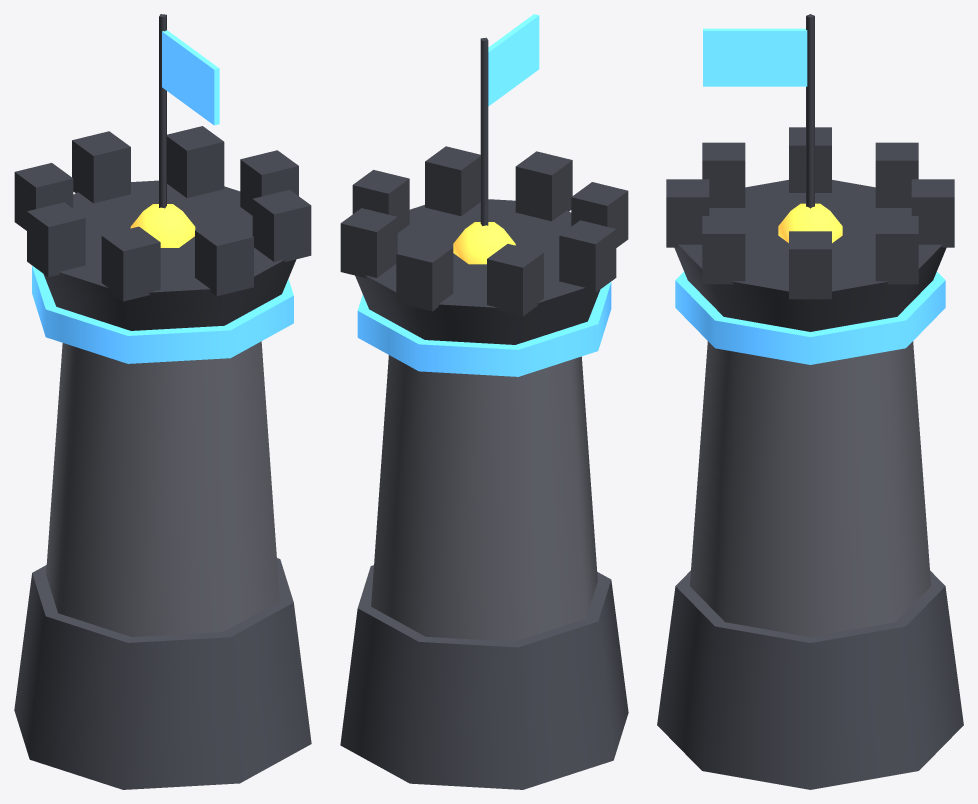
File: tower.glb
3 views of the same model, side by side, from view 1: azimuth 30°, elevation 25°; view 2: azimuth 150°, elevation 25°; view 3: azimuth 270°, elevation 25° (orthographic). The views are drawn at different scales.
Parts seen in each view (by area): view 1: tower, flag; view 2: tower, flag; view 3: tower, flag.
Part boxes in pixels (x1,y1,x2,y2): tower: [14, 14, 311, 789]; flag: [162, 30, 219, 125]; tower: [340, 37, 628, 789]; flag: [488, 14, 539, 106]; tower: [657, 14, 963, 789]; flag: [703, 28, 807, 86].
Bounding box in the file's own units: 1 × 2.55 × 1.
